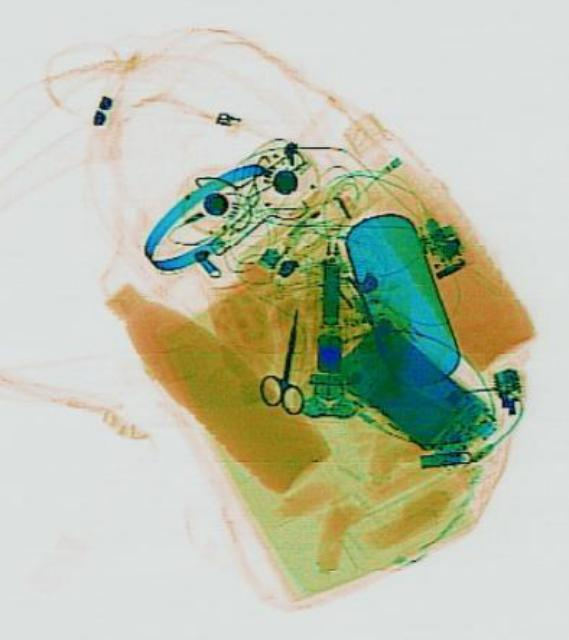Scissors: (255, 303, 316, 413)
